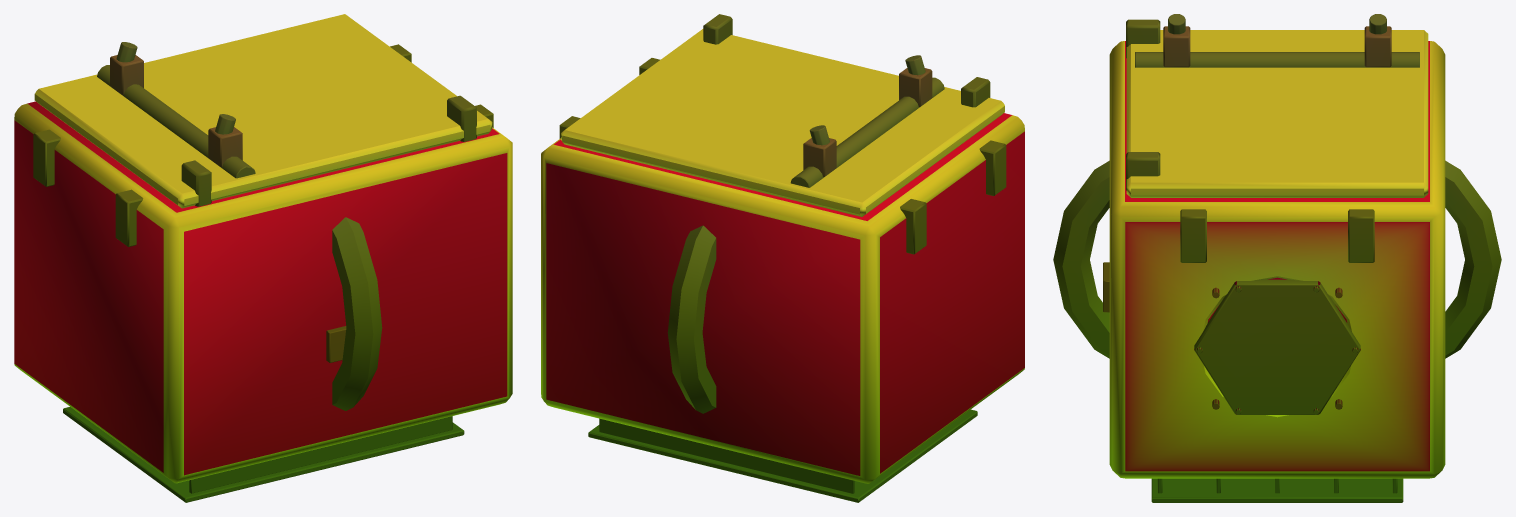
The model's file is RCLModule_arc_lance_walker_plasma_arc_containment.fbx.
3 views of the same model, side by side, from view 1: azimuth 30°, elevation 25°; view 2: azimuth 150°, elevation 25°; view 3: azimuth 270°, elevation 25° (orthographic). The views are drawn at different scales.
Parts seen in each view (by area): view 1: RCLModule_arc_lance_walker_plasma_arc_containment_Batch_RCLM (×3); view 2: RCLModule_arc_lance_walker_plasma_arc_containment_Batch_RCLM (×3); view 3: RCLModule_arc_lance_walker_plasma_arc_containment_Batch_RCLM (×3).
Boxes of the visible parts, x1,y1,x2,y2 form: RCLModule_arc_lance_walker_plasma_arc_containment_Batch_RCLM (×3): [14, 14, 512, 502]; RCLModule_arc_lance_walker_plasma_arc_containment_Batch_RCLM (×3): [541, 14, 1024, 502]; RCLModule_arc_lance_walker_plasma_arc_containment_Batch_RCLM (×3): [1053, 14, 1501, 502].
Size of the model in its own units: 56.75 by 54.16 by 58.8.
